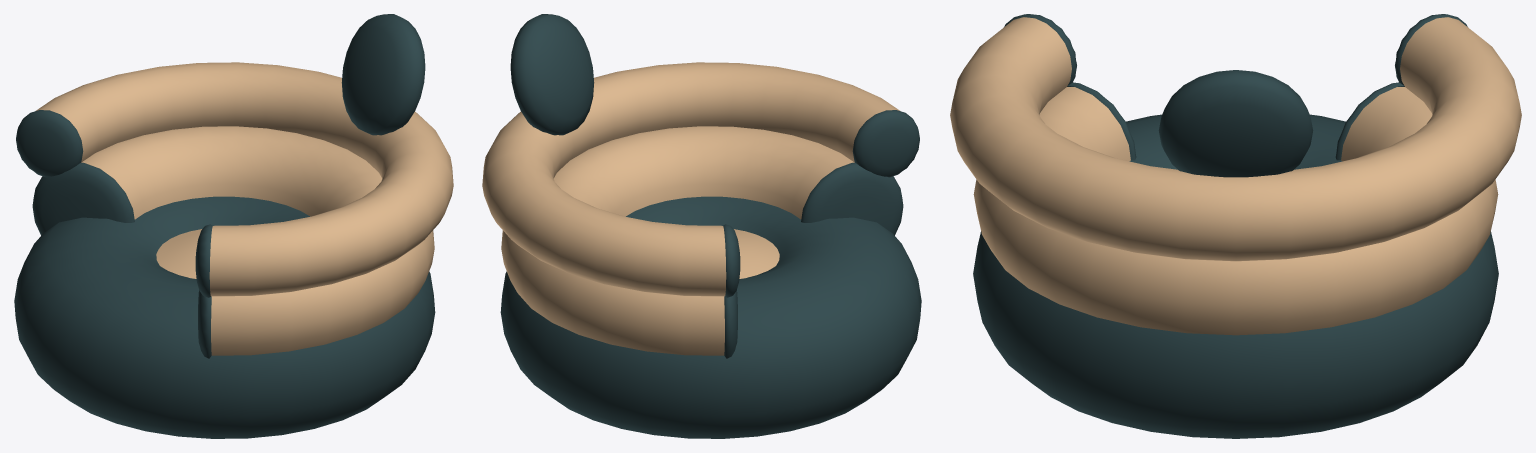
File: FI_000_001_010_011_padded_armchair.glb
3 renders of one model, left to right at view 1: azimuth 30°, elevation 25°; view 2: azimuth 150°, elevation 25°; view 3: azimuth 270°, elevation 25°, orthographic. The views are drawn at different scales.
Visible parts, largest first — view 1: padded_armchair; view 2: padded_armchair; view 3: padded_armchair.
Boxes of the visible parts, x1,y1,x2,y2 form: padded_armchair: [14, 14, 453, 438]; padded_armchair: [482, 14, 921, 438]; padded_armchair: [950, 14, 1521, 438].
Bounding box in the file's own units: 1.67 × 1.32 × 1.74.
